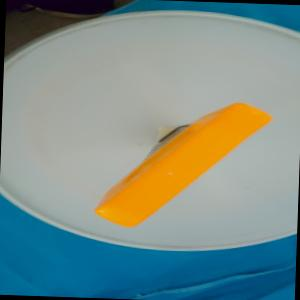serrote: (91, 96, 274, 232)
